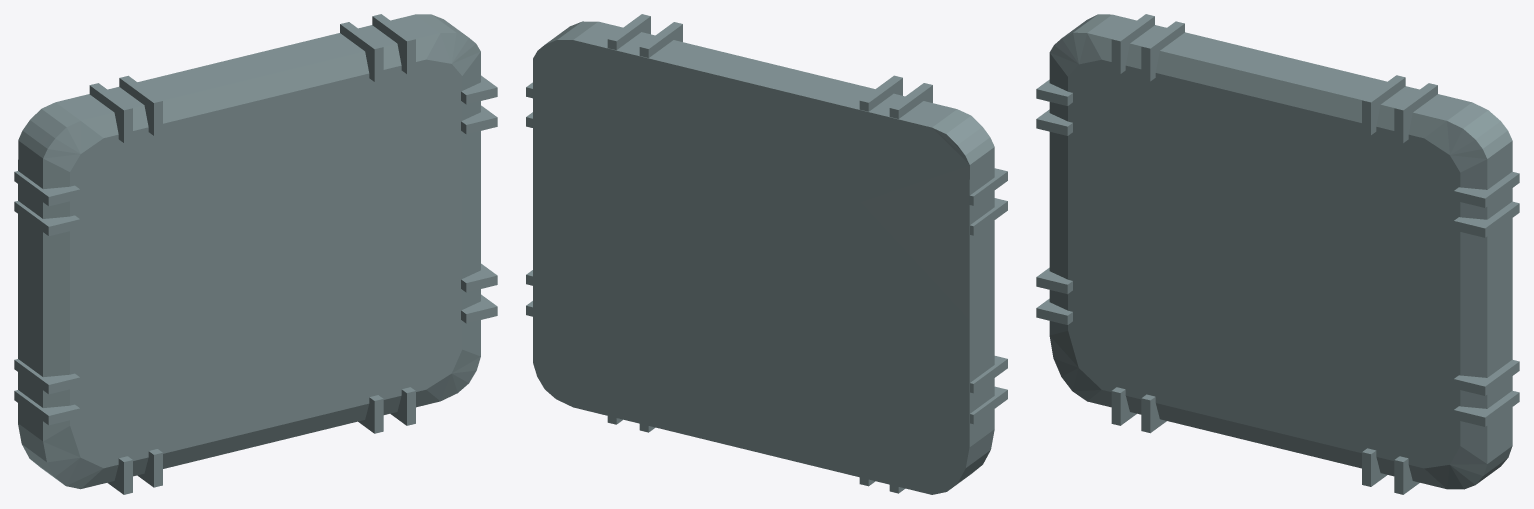
The model's file is sf_wall_fixture_0.glb.
3 renders of one model, left to right at view 1: azimuth 30°, elevation 25°; view 2: azimuth 150°, elevation 25°; view 3: azimuth 330°, elevation 25°, orthographic.
Parts seen in each view (by area): view 1: Cube_Cube.014; view 2: Cube_Cube.014; view 3: Cube_Cube.014.
Part boxes in pixels (box(x1,y1,x2,y2)): Cube_Cube.014: box(14, 14, 497, 494); Cube_Cube.014: box(526, 14, 1007, 494); Cube_Cube.014: box(1036, 14, 1519, 494).
Size of the model in its own units: 0.5684 by 0.4654 by 0.0762.
